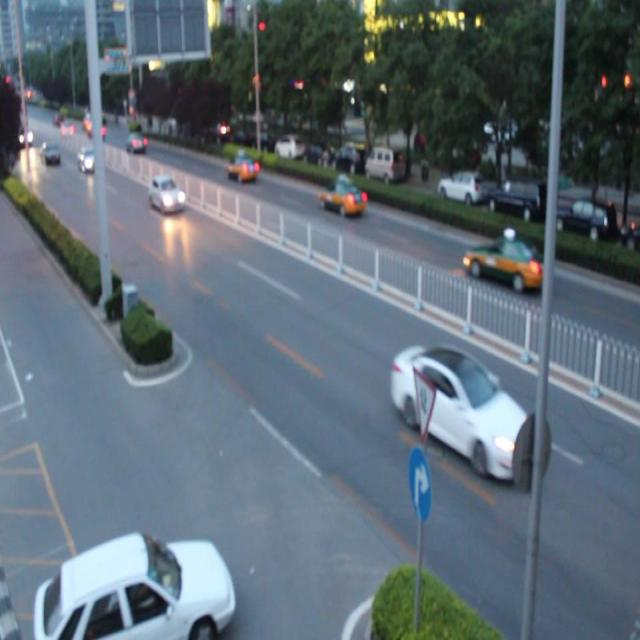car: (35, 528, 231, 640), (393, 342, 524, 482), (463, 236, 547, 291), (321, 179, 365, 214), (148, 177, 186, 213), (226, 150, 258, 182)
